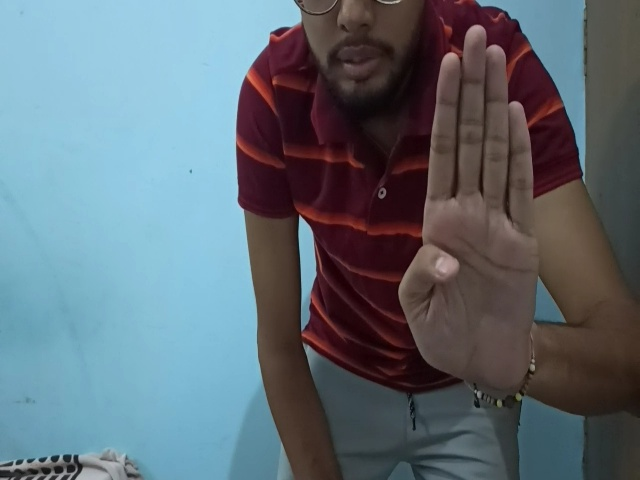B: (397, 22, 534, 392)
